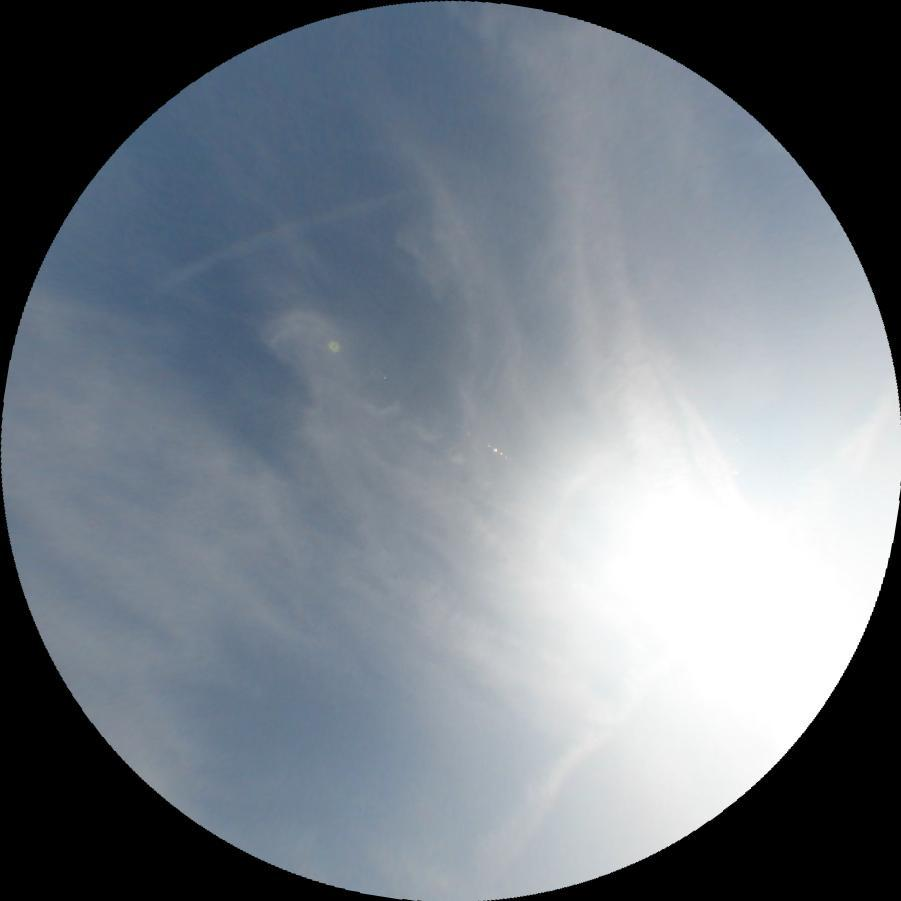contrail veryold: (527, 123, 695, 506), (144, 175, 410, 295), (646, 349, 745, 512)
sun: (558, 459, 891, 765)
